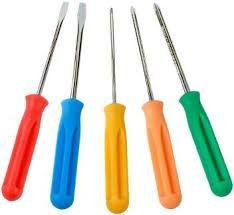screwdriver: (152, 1, 233, 195), (0, 0, 68, 200), (129, 6, 181, 209), (49, 1, 86, 208), (104, 6, 130, 214)
